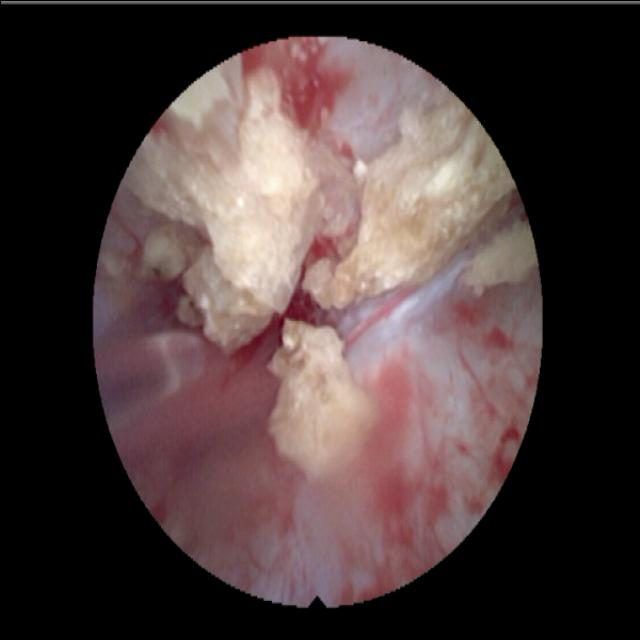stone: (130, 58, 357, 351), (306, 108, 511, 306), (269, 319, 377, 481), (457, 224, 533, 289), (136, 220, 196, 277)
